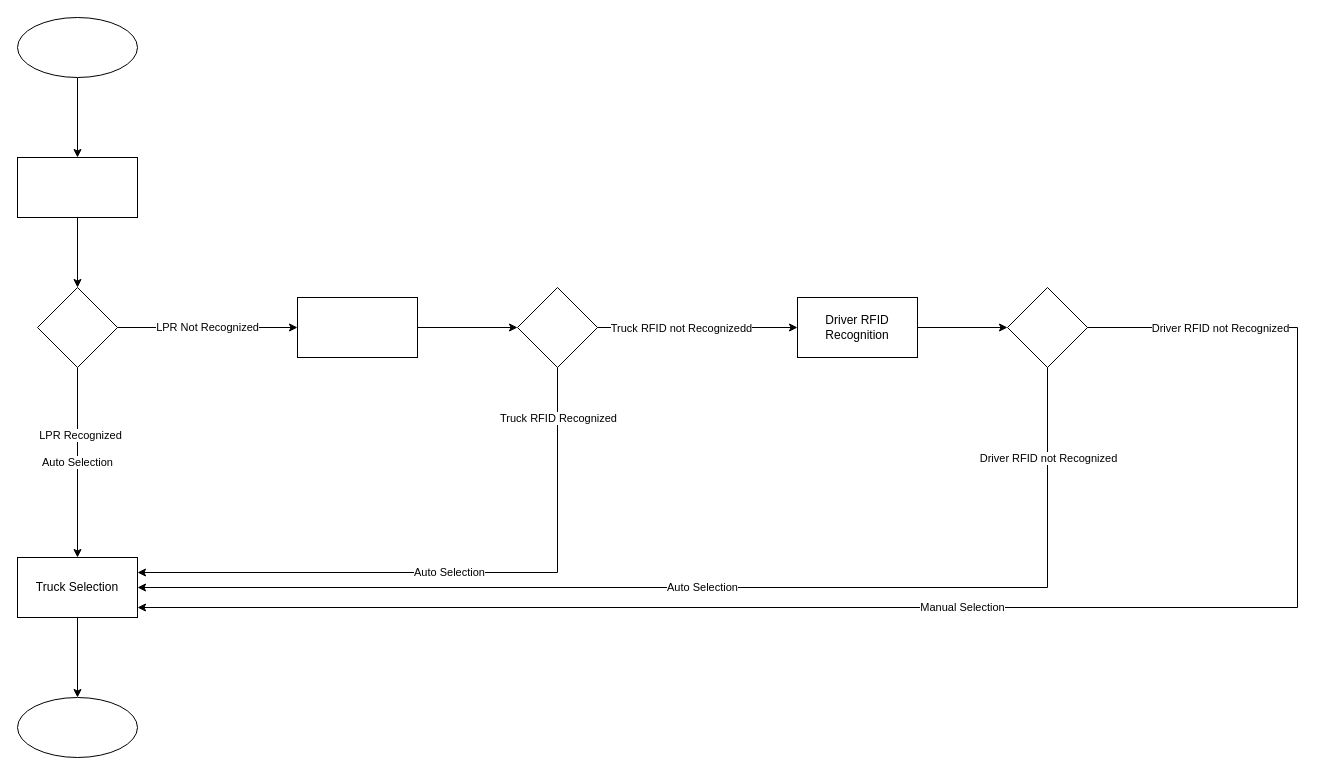
Some shapes in this 1323 by 775 pixel diagram are drawn without their labels. Here are the shapes that lost their labels. From the top down, the box of each, then its label:
(16, 156, 138, 218): LPR Recognition
(296, 296, 418, 358): Truck RFID Recognition
